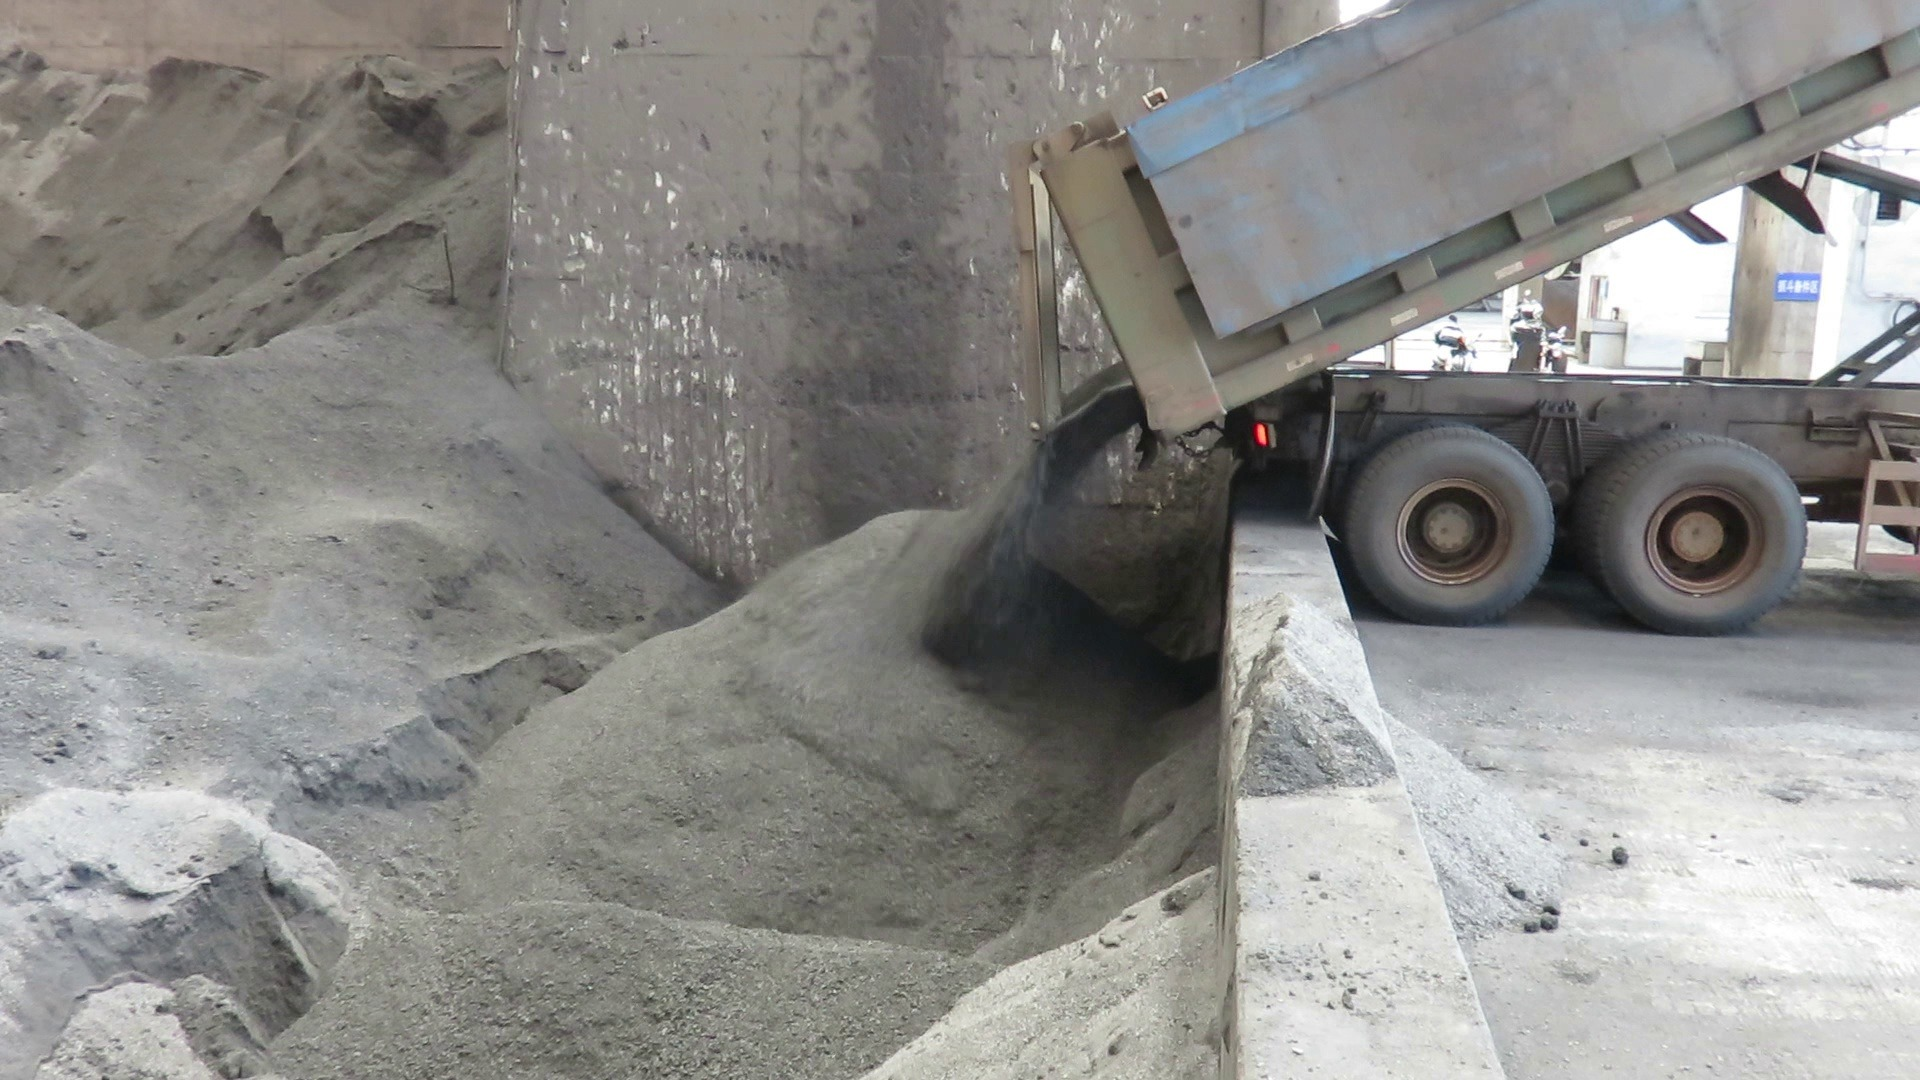truck: (1017, 0, 1920, 654)
